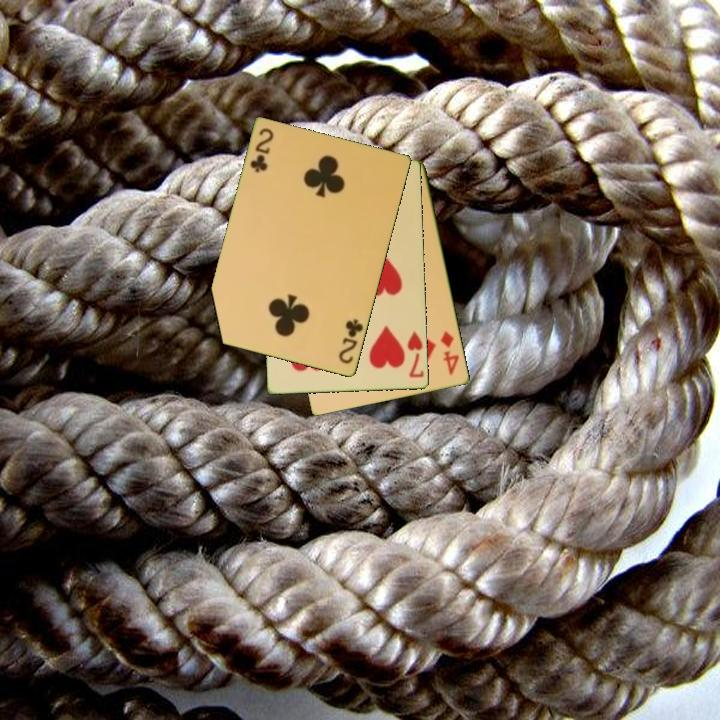2c: (335, 316, 366, 367), (247, 125, 277, 176)
4d: (437, 328, 462, 378)
7h: (404, 328, 427, 381)
